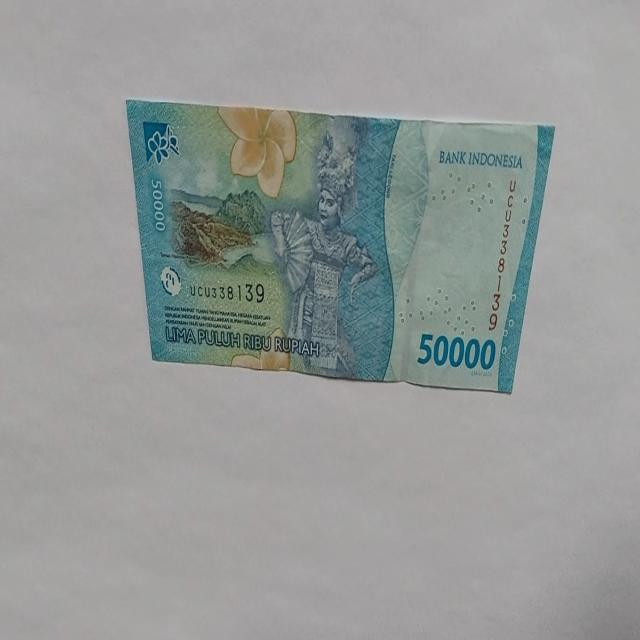lima puluh ribu rupiah: (124, 98, 556, 394), (416, 330, 496, 372)
